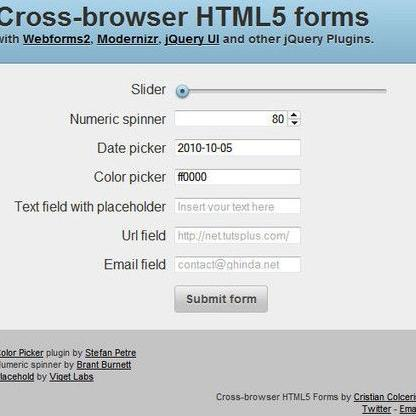button: (172, 284, 271, 316)
field: (172, 224, 304, 247), (172, 167, 304, 189), (172, 254, 304, 276), (171, 109, 305, 130), (172, 196, 304, 217), (173, 137, 304, 156)
field_with_label: (16, 195, 305, 219), (70, 108, 307, 131), (94, 165, 307, 190), (103, 252, 306, 278), (119, 223, 307, 248), (98, 136, 306, 158)
